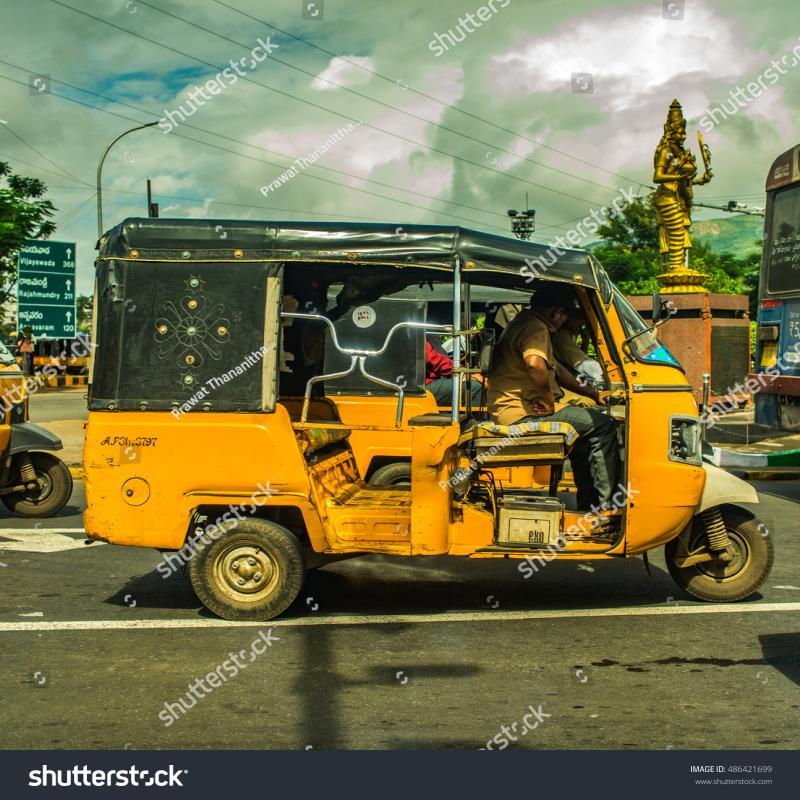auto: (82, 218, 782, 732)
